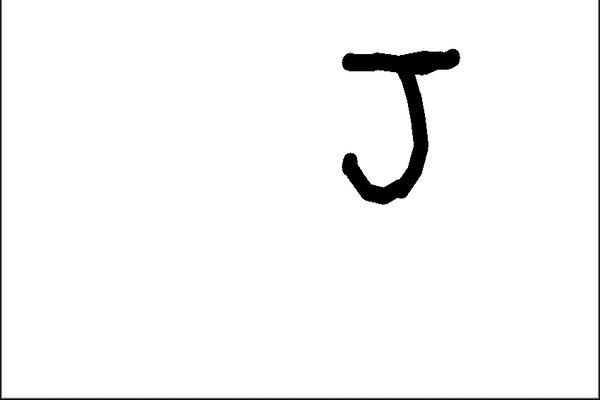J: (330, 43, 465, 211)
